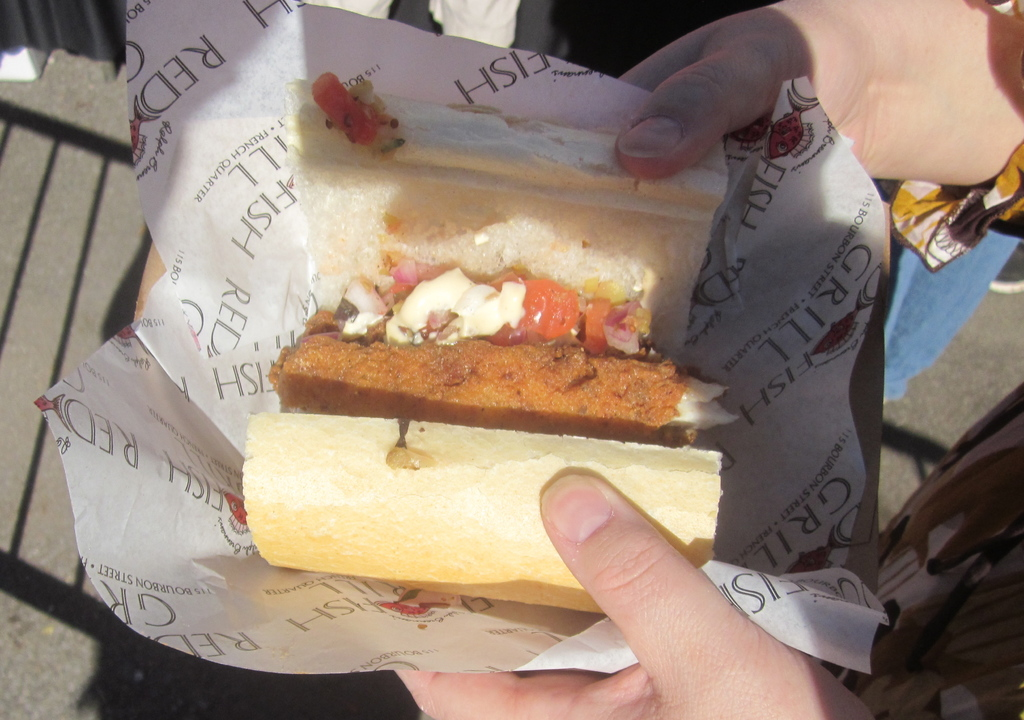sandwich: (234, 67, 740, 609)
